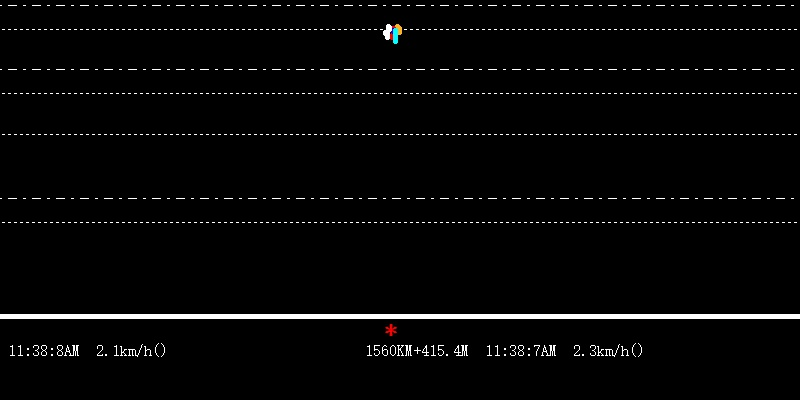face_2: (381, 20, 402, 45)
star: (382, 323, 399, 337)
